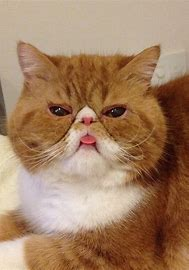cat: (4, 35, 187, 268)
